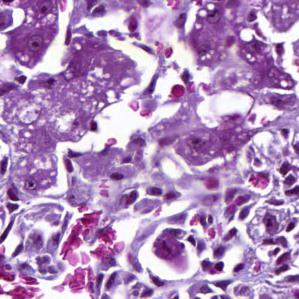ballooning: (234, 126, 292, 198)
